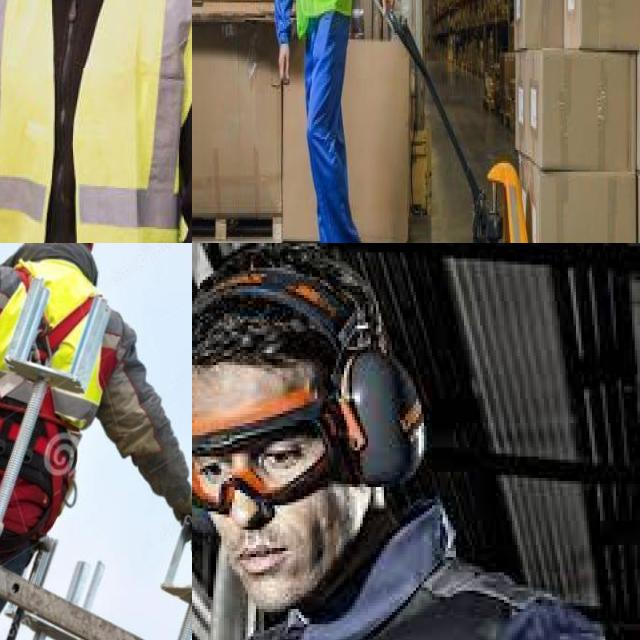Ear-protection: (250, 255, 440, 496)
Harness: (0, 265, 94, 498)
hand_noglove: (276, 35, 294, 105), (374, 0, 398, 31)
person: (0, 0, 192, 243), (263, 0, 383, 243)
vest: (0, 0, 192, 243)
